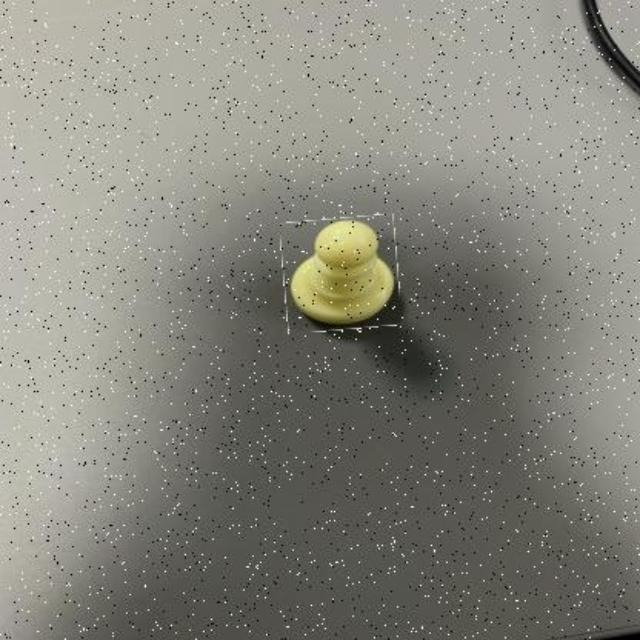white-pawn: (283, 216, 401, 331)
